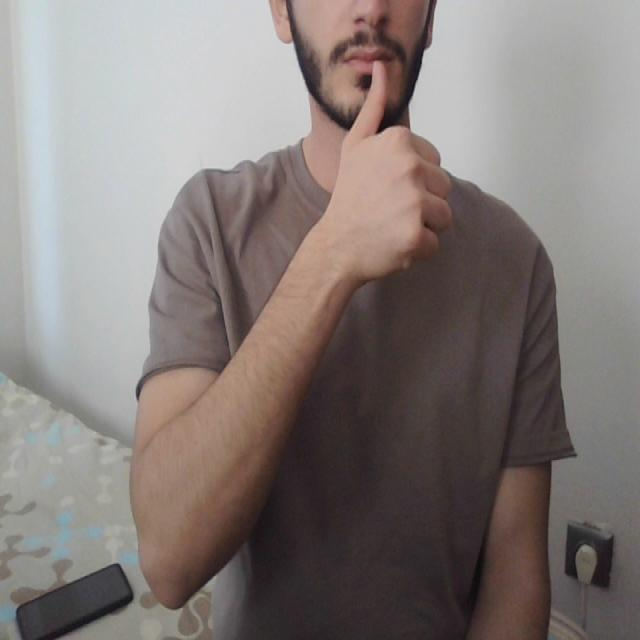Baba: (333, 27, 408, 126)
